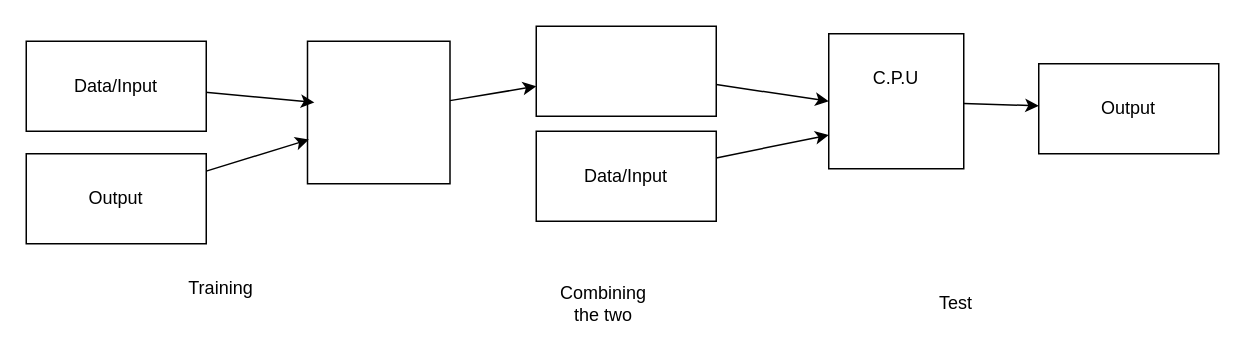
Image size: 1245x353. Some labels were removed from this diagram. The centre of each missing label's shape, as x and y in pixels:
"CPU" belongs at pixel 378 112.
"Program" belongs at pixel 625 70.
